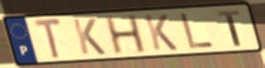H: (103, 14, 149, 56)
K: (142, 13, 180, 52), (70, 17, 108, 56)
L: (178, 12, 216, 50)
T: (32, 16, 64, 61), (215, 9, 243, 48)
